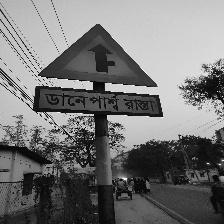Side-road-right: (35, 24, 161, 117)
